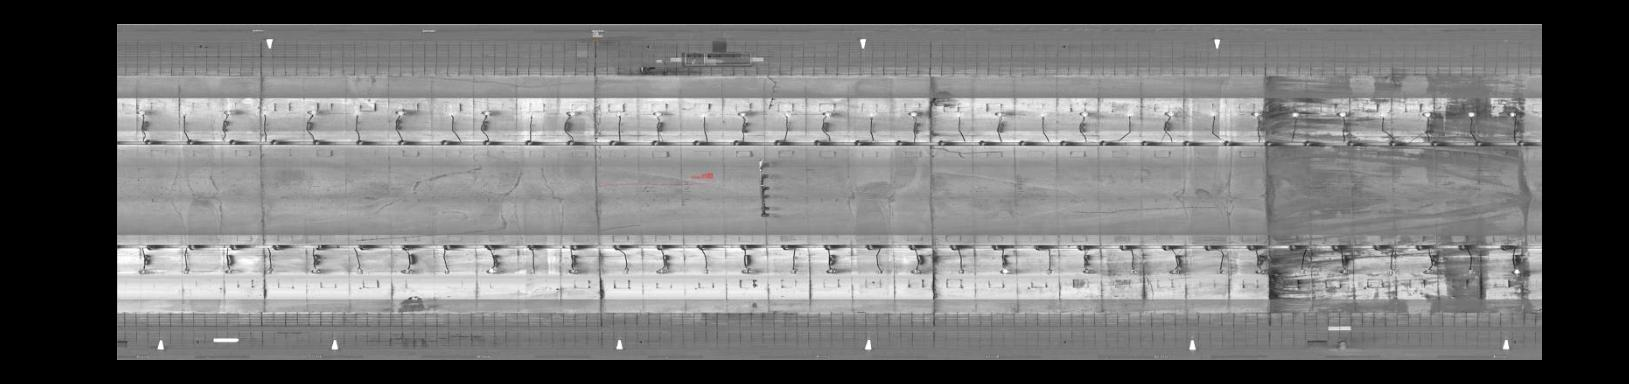light: (655, 264, 675, 278), (1416, 106, 1435, 121), (301, 105, 318, 120), (389, 105, 406, 119), (477, 106, 495, 120), (1157, 108, 1177, 120), (520, 108, 538, 121), (609, 108, 627, 120), (1251, 265, 1270, 277), (735, 266, 756, 276), (1374, 108, 1391, 121), (699, 265, 716, 278), (1332, 108, 1350, 120), (1505, 265, 1523, 277), (731, 108, 750, 119), (903, 108, 922, 119), (1334, 266, 1353, 277), (482, 265, 501, 276), (218, 106, 234, 119), (1077, 107, 1093, 120), (1464, 107, 1479, 120), (620, 264, 636, 277), (1078, 265, 1095, 277), (953, 265, 969, 277), (645, 108, 665, 118), (1459, 266, 1480, 275), (558, 108, 576, 119), (1381, 266, 1398, 277), (1168, 266, 1185, 277), (256, 108, 270, 121), (694, 108, 709, 121), (262, 264, 276, 277), (347, 107, 363, 119), (1203, 107, 1220, 118), (786, 266, 803, 277), (816, 109, 835, 118), (397, 266, 415, 276), (1248, 108, 1262, 120), (1505, 108, 1520, 120), (442, 108, 457, 119), (951, 108, 966, 119), (135, 266, 151, 277), (1420, 265, 1437, 275), (438, 265, 455, 275), (178, 108, 191, 120), (179, 266, 193, 277), (308, 266, 323, 276), (1285, 110, 1302, 119), (1126, 266, 1139, 278), (822, 266, 838, 275), (351, 266, 368, 275), (1121, 108, 1134, 119), (1296, 267, 1310, 277), (1042, 266, 1057, 276), (221, 266, 236, 276), (1035, 111, 1050, 120), (872, 268, 887, 277), (564, 266, 580, 275), (133, 108, 146, 118), (1212, 268, 1229, 276), (525, 267, 541, 275), (997, 267, 1012, 276), (907, 266, 922, 275), (992, 108, 1006, 117), (780, 108, 791, 119), (864, 110, 876, 120)
